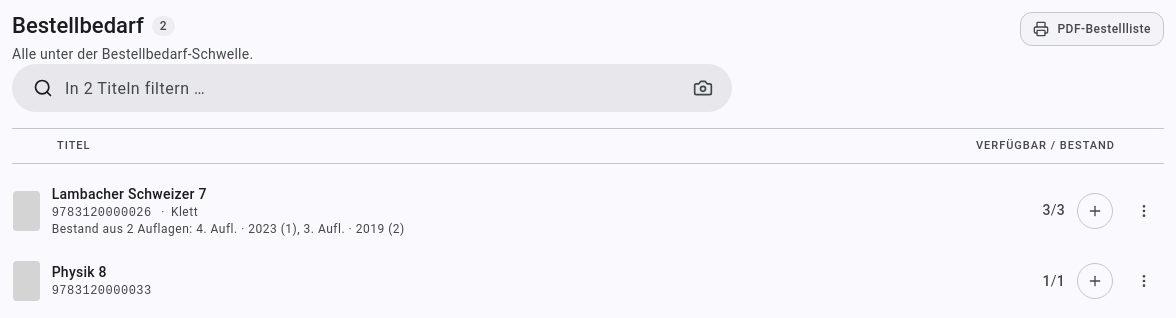
Test: Bestellbedarf: Filter › findet das Buch auch über die ISBN der alten Auflage
Type "9783120000019" into the search field named "Bestellvorschläge filtern" at (366, 88), box [53,65,679,111]
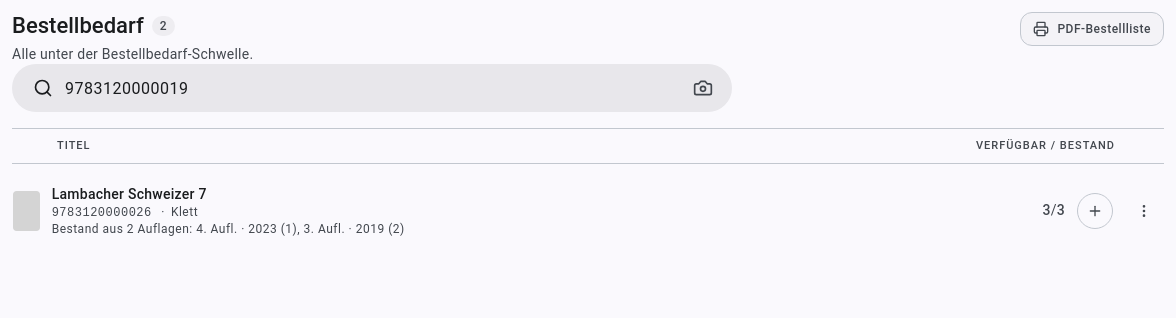
Check: the heading "Lambacher Schweizer 7" is shown, box [52,186,207,202]
Check: the heading "Physik 8" is gone
